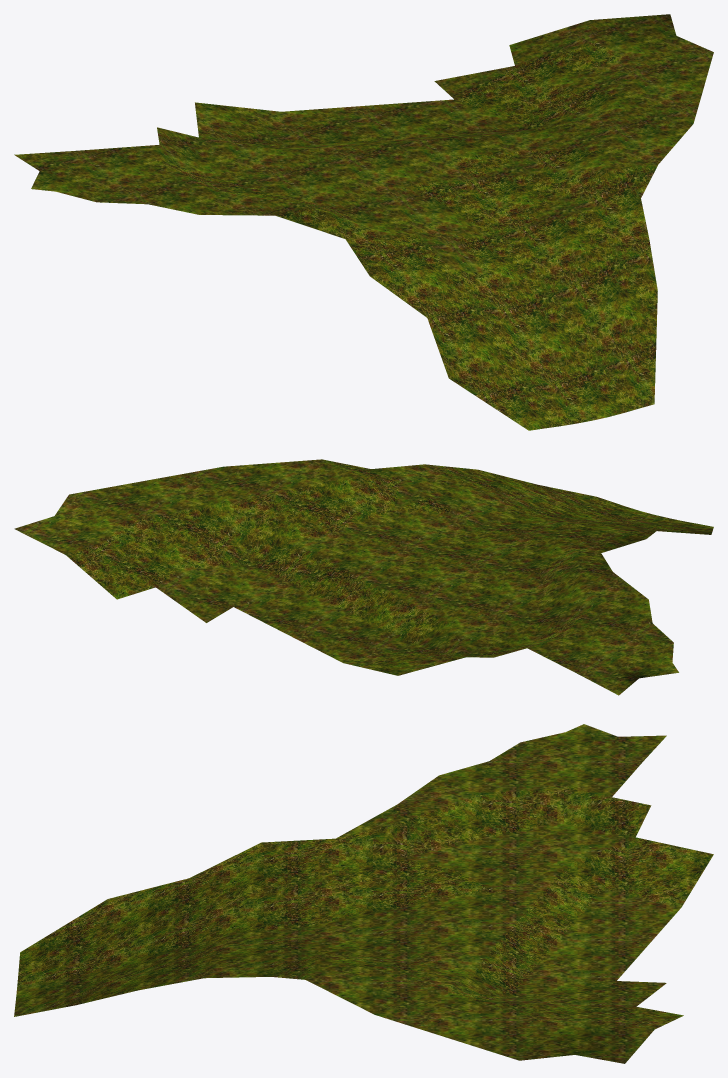
Rendered from TROLLHOLE02_LUKEGROUND02.fbx.
3 views of the same model, one above another, from view 1: azimuth 30°, elevation 25°; view 2: azimuth 150°, elevation 25°; view 3: azimuth 270°, elevation 25° (orthographic). The views are drawn at different scales.
Visible parts, largest first — view 1: TROLLHOLE02_LUKEGROUND02; view 2: TROLLHOLE02_LUKEGROUND02; view 3: TROLLHOLE02_LUKEGROUND02.
Part boxes in pixels (left/top/right/bottom): TROLLHOLE02_LUKEGROUND02: left=14, top=14, right=713, bottom=430; TROLLHOLE02_LUKEGROUND02: left=14, top=459, right=713, bottom=695; TROLLHOLE02_LUKEGROUND02: left=14, top=724, right=713, bottom=1063.
Bounding box in the file's own units: 437780 × 67934 × 380983.
Materials: 1 (1 with a texture image).
